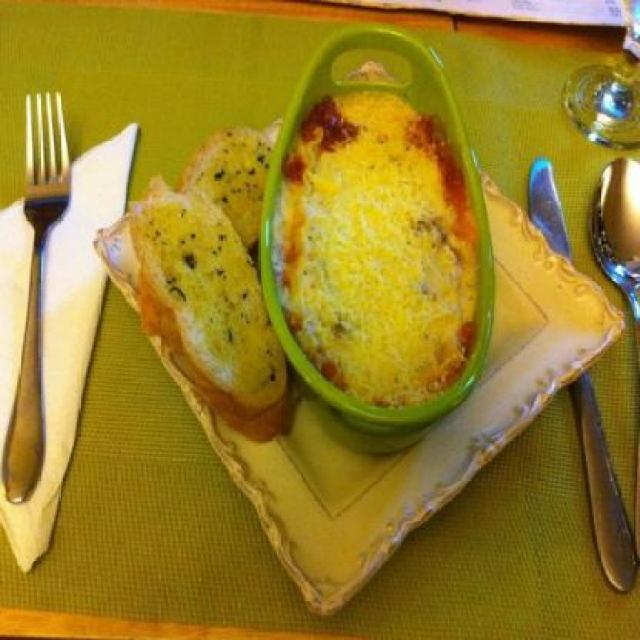Lasagna: (294, 80, 473, 406)
